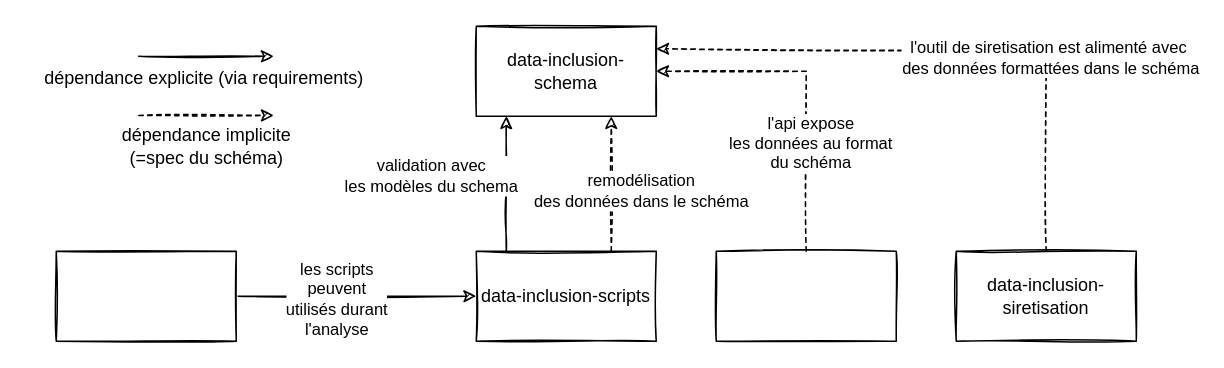
Image size: 1224x368. Some labels were removed from this diagram. The shapes that lost their labels are listed below. From the top down, each one's centre as x and y in pixels, then its label:
At [145,295]: "data-inclusion-analyse".
At [805,295]: "data-inclusion(-api)".
